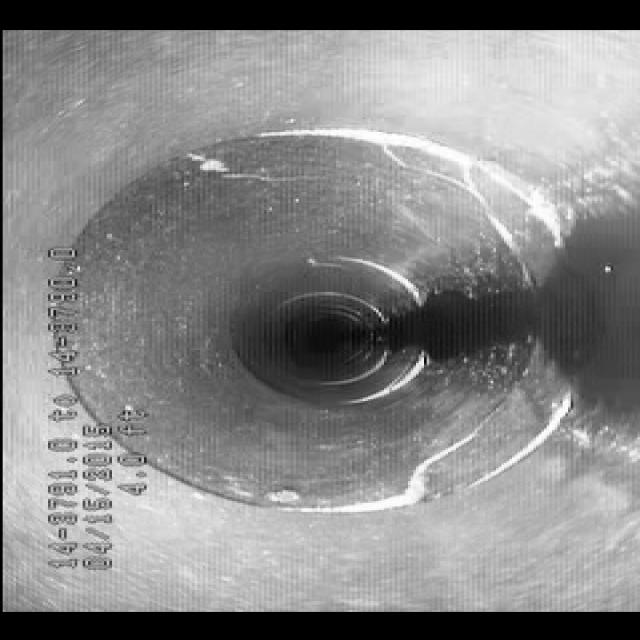Crack: (352, 404, 499, 501)
